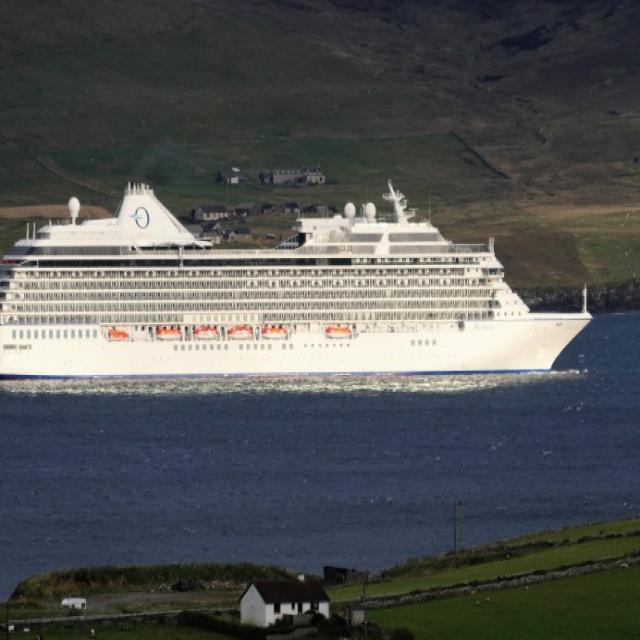cruises: (1, 157, 610, 418)
